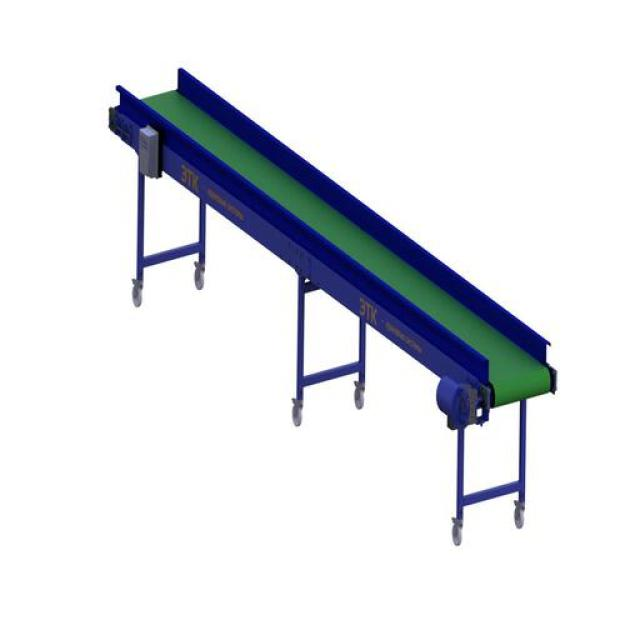conveyor: (96, 62, 588, 435)
